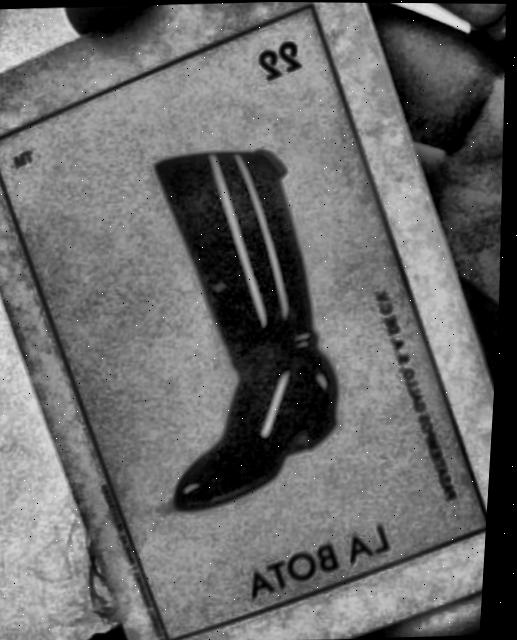La Bota: (0, 8, 493, 640)
